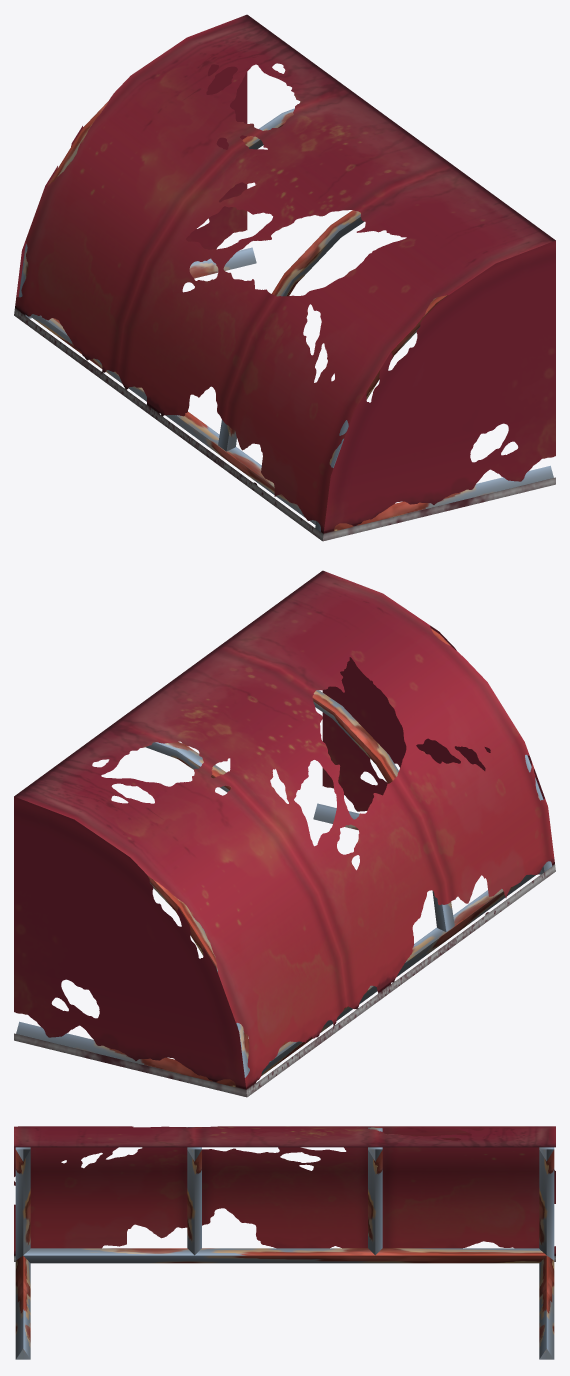
Rendered from awning04.fbx.
3 views of the same model, one above another, from view 1: azimuth 30°, elevation 25°; view 2: azimuth 150°, elevation 25°; view 3: azimuth 270°, elevation 25° (orthographic). The views are drawn at different scales.
Parts seen in each view (by area): view 1: awning04; view 2: awning04; view 3: awning04.
Boxes of the visible parts, x1,y1,x2,y2 form: awning04: (14,14,555,541); awning04: (14,570,555,1097); awning04: (14,1126,555,1359).
Size of the model in its own units: 131 by 130 by 298.
